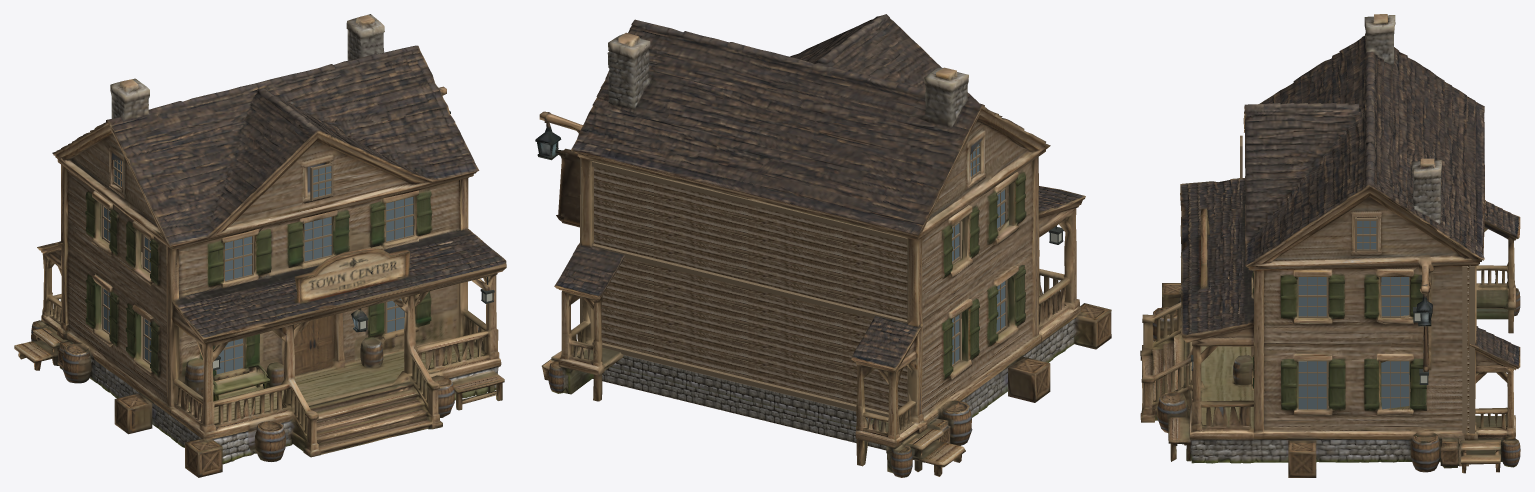
File: TownCenter.fbx
The picture shows the model from 3 angles, left to right: view 1: azimuth 30°, elevation 25°; view 2: azimuth 150°, elevation 25°; view 3: azimuth 270°, elevation 25°; orthographic projection. The views are drawn at different scales.
Visible parts, largest first — view 1: TC_Shell, TC_Glass, TC_Wood; view 2: TC_Shell, TC_RearSiding, TC_RearStone, TC_Wood, TC_Glass; view 3: TC_Shell, TC_Glass, TC_Wood, TC_Interior, TC_RearSiding.
Part boxes in pixels (bbox=[...]): TC_Shell: bbox=[14, 14, 506, 477]; TC_Glass: bbox=[103, 160, 413, 374]; TC_Wood: bbox=[102, 160, 414, 374]; TC_Shell: bbox=[535, 14, 1111, 477]; TC_RearSiding: bbox=[594, 167, 907, 412]; TC_RearStone: bbox=[593, 355, 886, 449]; TC_Wood: bbox=[580, 141, 1007, 417]; TC_Glass: bbox=[952, 144, 1005, 364]; TC_Shell: bbox=[1140, 14, 1520, 477]; TC_Glass: bbox=[1298, 221, 1409, 409]; TC_Wood: bbox=[1240, 135, 1474, 433]; TC_Interior: bbox=[1328, 266, 1468, 466]; TC_RearSiding: bbox=[1467, 266, 1469, 432].
Bounding box in the file's own units: 1420 × 1054 × 1163.
9 materials, 3 textured.
